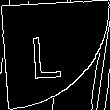L_N: (36, 29, 74, 81)
